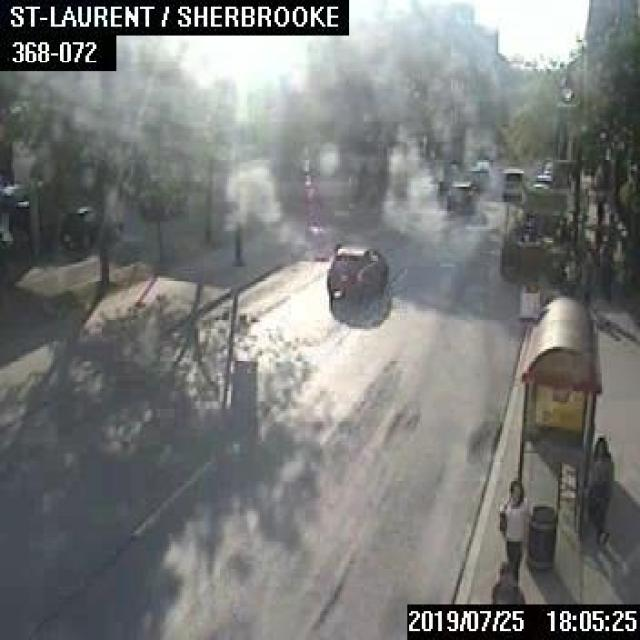pedestrian: (584, 433, 613, 549), (496, 476, 525, 582), (492, 560, 524, 602), (596, 234, 613, 300), (579, 249, 596, 301)
vehicle: (326, 244, 386, 300), (60, 204, 120, 246), (445, 177, 477, 210), (138, 192, 185, 214), (502, 168, 522, 196), (535, 172, 551, 184), (530, 180, 548, 188)
